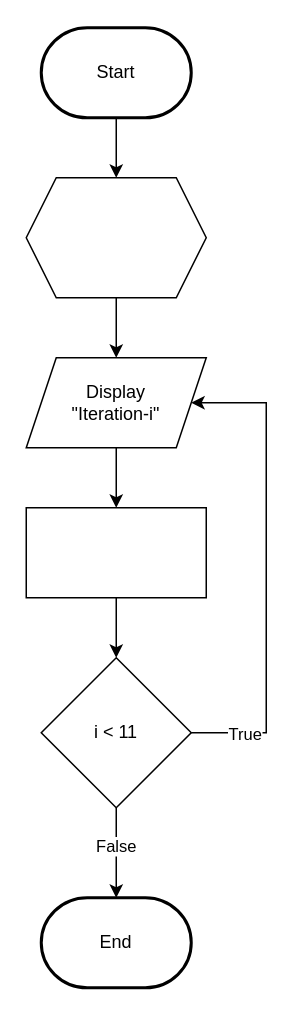
The diagram is 305 pixels wide and 1014 high, and some of its shapes have lost their labels. The centre of each missing label's shape, as x and y in pixels:
i++: (x=115, y=552)
int i: (x=115, y=237)
